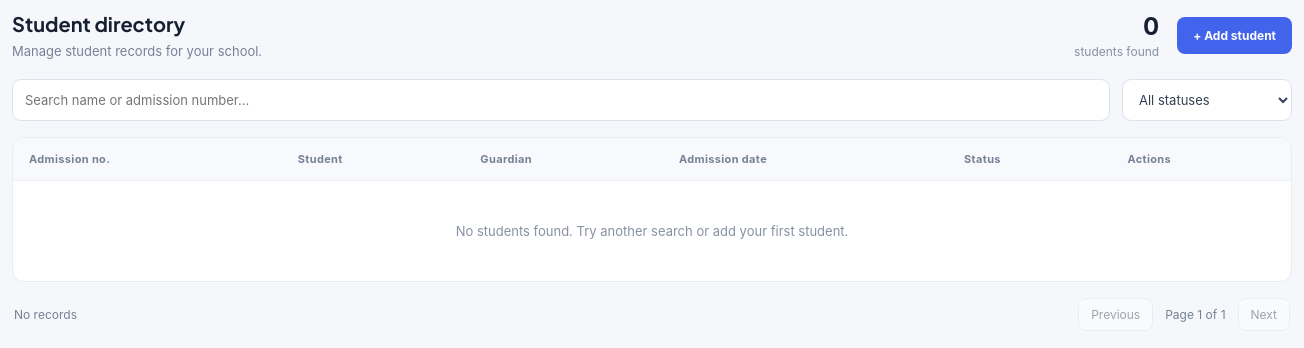
Scenario: StudentDirectory › searches students using the entered search term
Type "Ayaan" into the search field named "Search students" at (561, 100), box [12,79,1110,121]
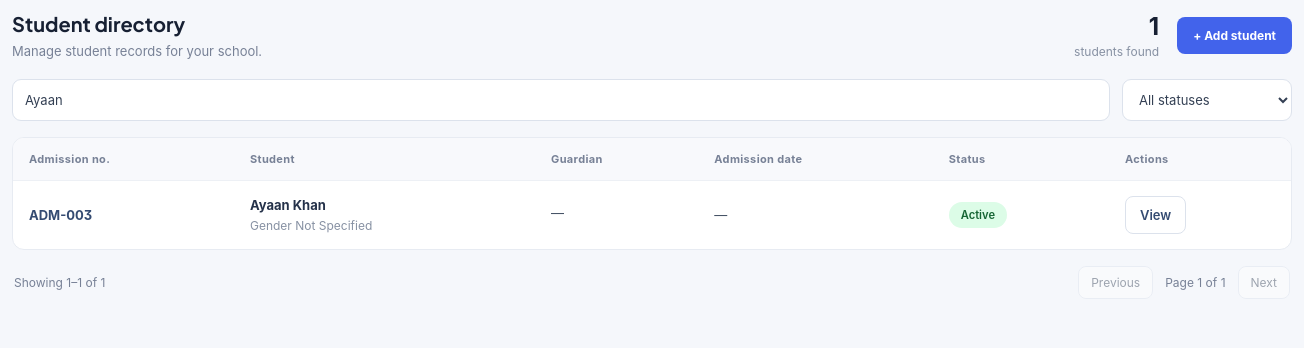
Expected: the text "Ayaan Khan" is shown, [250,197,326,213]
